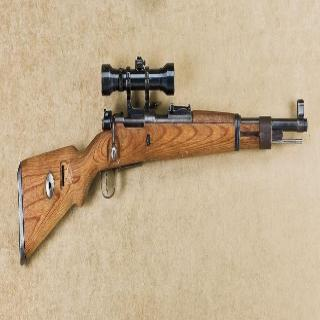gun: (13, 36, 308, 289)
